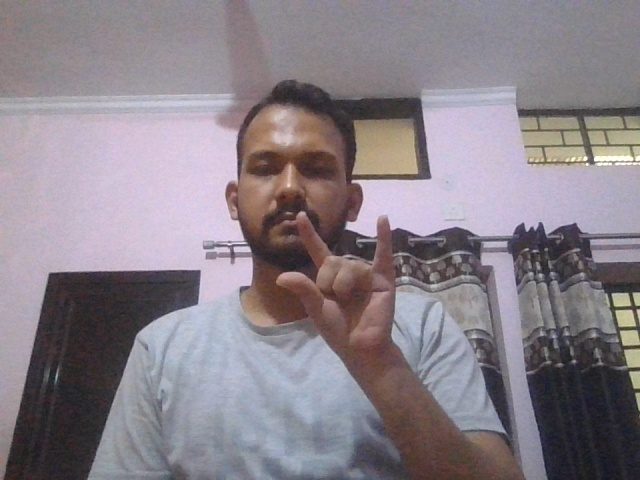iloveyou: (276, 209, 400, 363)
